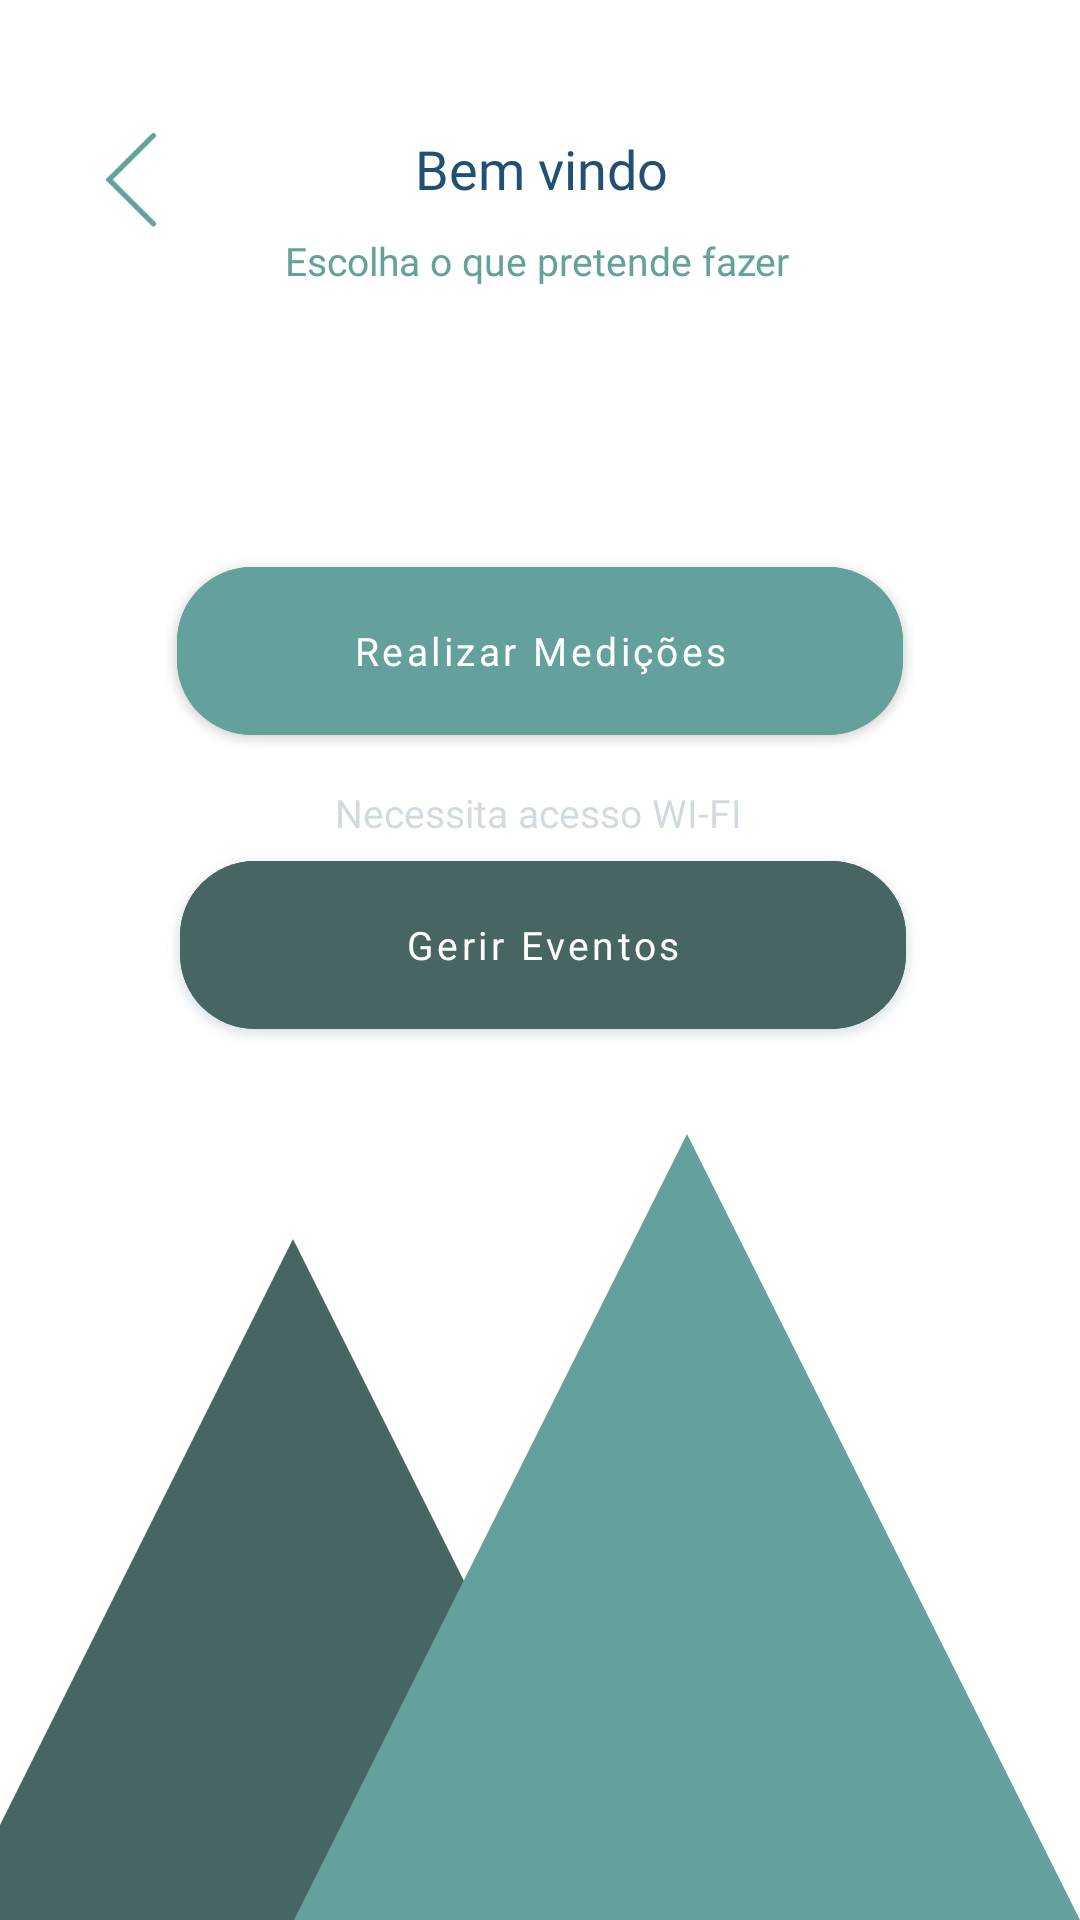

Locate icon controls on the screen. Image size 1080px×1920px, boxes as Rect(x1, y1, x2, y2).
voltar: Rect(106, 133, 157, 227)
